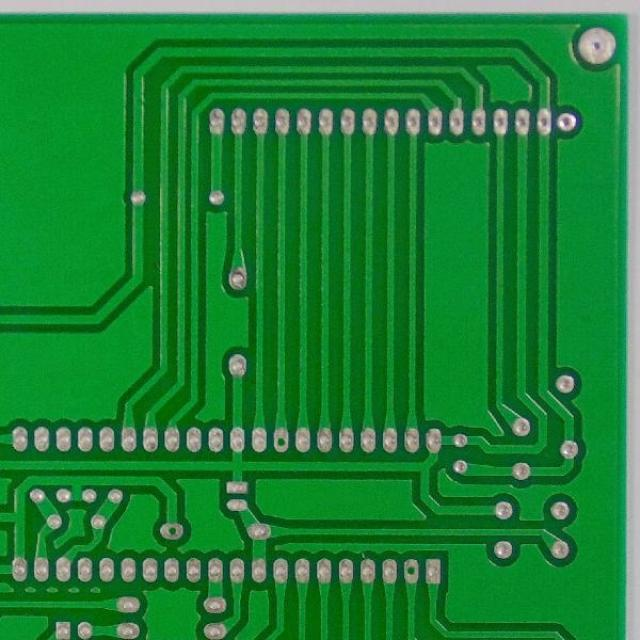Missing_Hole: (159, 520, 184, 541), (272, 427, 290, 453), (403, 559, 419, 582)
